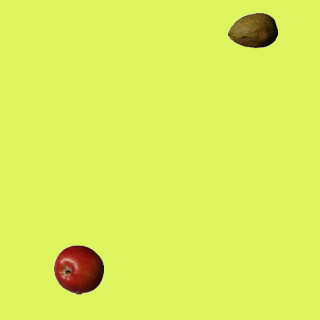Apple Braeburn: (53, 244, 103, 294)
Papaya: (227, 5, 277, 55)
